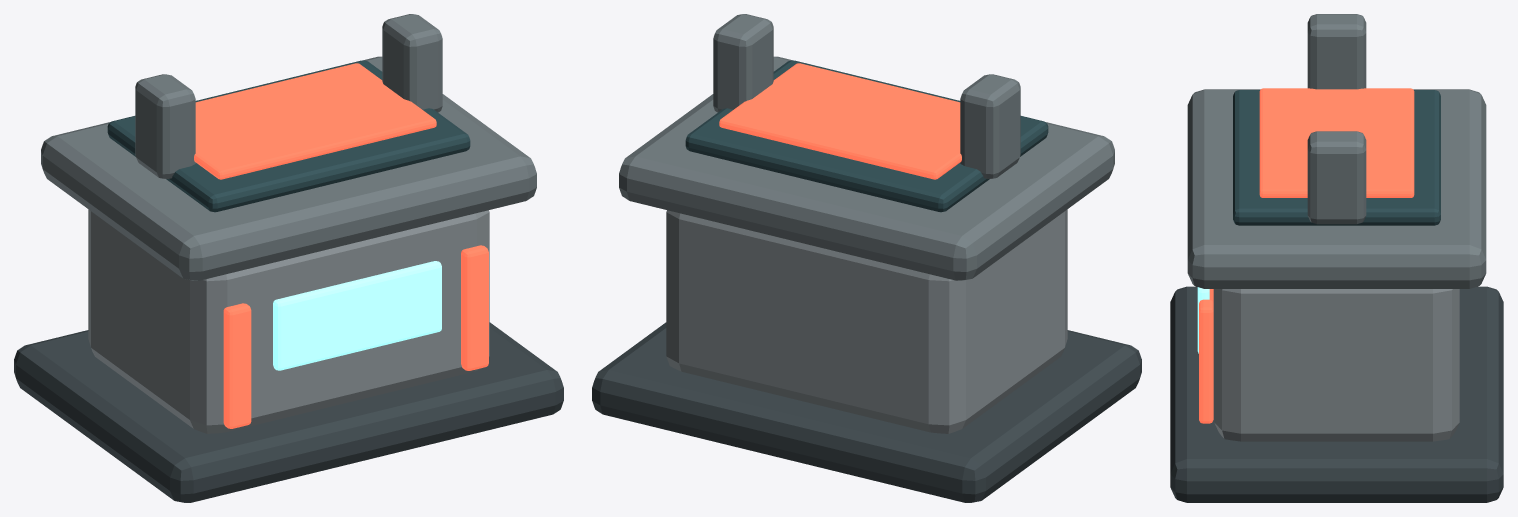
The model's file is PrototypePedestal_A.fbx.
3 renders of one model, left to right at view 1: azimuth 30°, elevation 25°; view 2: azimuth 150°, elevation 25°; view 3: azimuth 270°, elevation 25°, orthographic. The views are drawn at different scales.
Visible parts, largest first — view 1: Prototype Pedestal Body, Prototype Pedestal Foot, Prototype Pedestal Crown, Prototype Energy Field, Prototype Pedestal Screen, Prototype Energy Glass, Prototype Left Clamp, Prototype Right Clamp, Prototype Pedestal Light, Prototype Pedestal Light.001; view 2: Prototype Pedestal Body, Prototype Pedestal Foot, Prototype Pedestal Crown, Prototype Energy Field, Prototype Energy Glass, Prototype Left Clamp, Prototype Right Clamp; view 3: Prototype Pedestal Body, Prototype Pedestal Foot, Prototype Pedestal Crown, Prototype Energy Field, Prototype Energy Glass, Prototype Right Clamp, Prototype Left Clamp, Prototype Pedestal Light.001.
Part boxes in pixels (left/top/right/bottom): Prototype Pedestal Body: left=88, top=209, right=489, bottom=433; Prototype Pedestal Foot: left=14, top=322, right=563, bottom=502; Prototype Pedestal Crown: left=41, top=56, right=536, bottom=280; Prototype Energy Field: left=194, top=63, right=436, bottom=179; Prototype Pedestal Screen: left=273, top=261, right=441, bottom=370; Prototype Energy Glass: left=107, top=60, right=470, bottom=212; Prototype Left Clamp: left=135, top=74, right=195, bottom=178; Prototype Right Clamp: left=382, top=14, right=442, bottom=112; Prototype Pedestal Light: left=223, top=303, right=251, bottom=428; Prototype Pedestal Light.001: left=461, top=245, right=488, bottom=370; Prototype Pedestal Body: left=666, top=209, right=1067, bottom=433; Prototype Pedestal Foot: left=592, top=322, right=1141, bottom=502; Prototype Pedestal Crown: left=619, top=56, right=1114, bottom=280; Prototype Energy Field: left=719, top=63, right=961, bottom=179; Prototype Energy Glass: left=685, top=60, right=1048, bottom=212; Prototype Left Clamp: left=960, top=74, right=1020, bottom=178; Prototype Right Clamp: left=713, top=14, right=773, bottom=112; Prototype Pedestal Body: left=1214, top=289, right=1459, bottom=441; Prototype Pedestal Foot: left=1170, top=286, right=1503, bottom=502; Prototype Pedestal Crown: left=1187, top=89, right=1486, bottom=288; Prototype Energy Field: left=1259, top=88, right=1414, bottom=197; Prototype Energy Glass: left=1233, top=90, right=1440, bottom=225; Prototype Right Clamp: left=1307, top=131, right=1366, bottom=224; Prototype Left Clamp: left=1307, top=14, right=1366, bottom=89; Prototype Pedestal Light.001: left=1199, top=299, right=1213, bottom=423.
Bounding box in the file's own units: 1.65 × 1.4 × 1.25.
